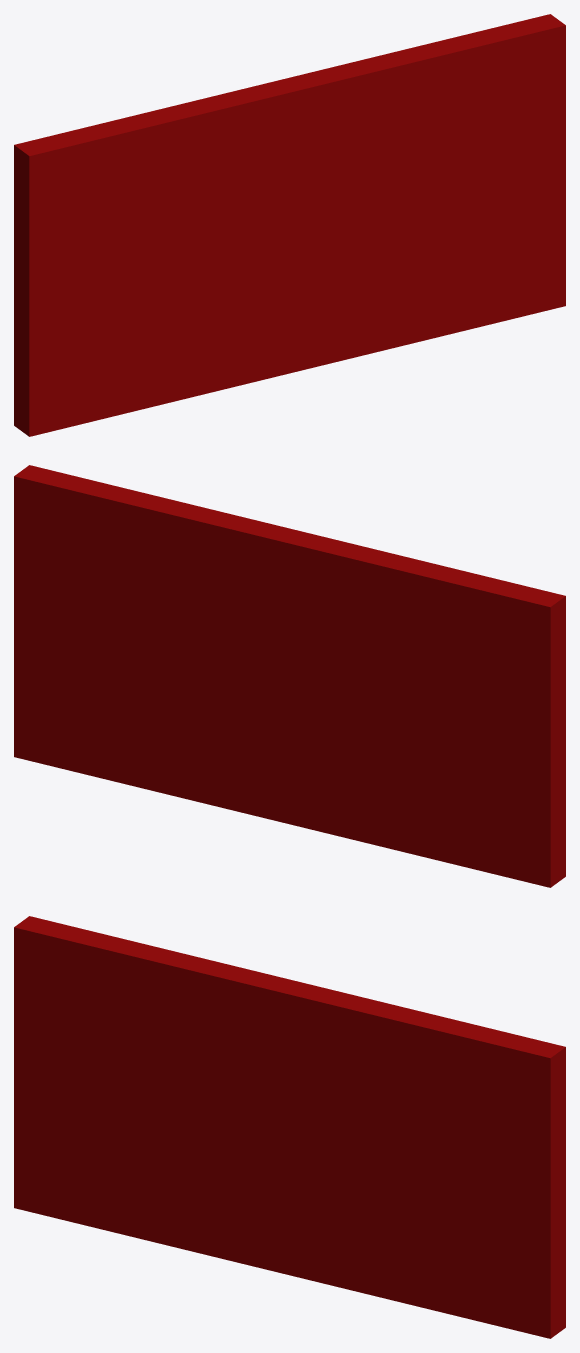
File: BrickWall2.obj
3 views of the same model, one above another, from view 1: azimuth 30°, elevation 25°; view 2: azimuth 150°, elevation 25°; view 3: azimuth 330°, elevation 25° (orthographic).
Visible parts, largest first — view 1: pCube1; view 2: pCube1; view 3: pCube1.
Boxes of the visible parts, box(x1,y1,x2,y2) form: pCube1: box(14, 14, 565, 436); pCube1: box(14, 465, 565, 887); pCube1: box(14, 916, 565, 1338).
Bounding box in the file's own units: 20 × 10 × 1.
